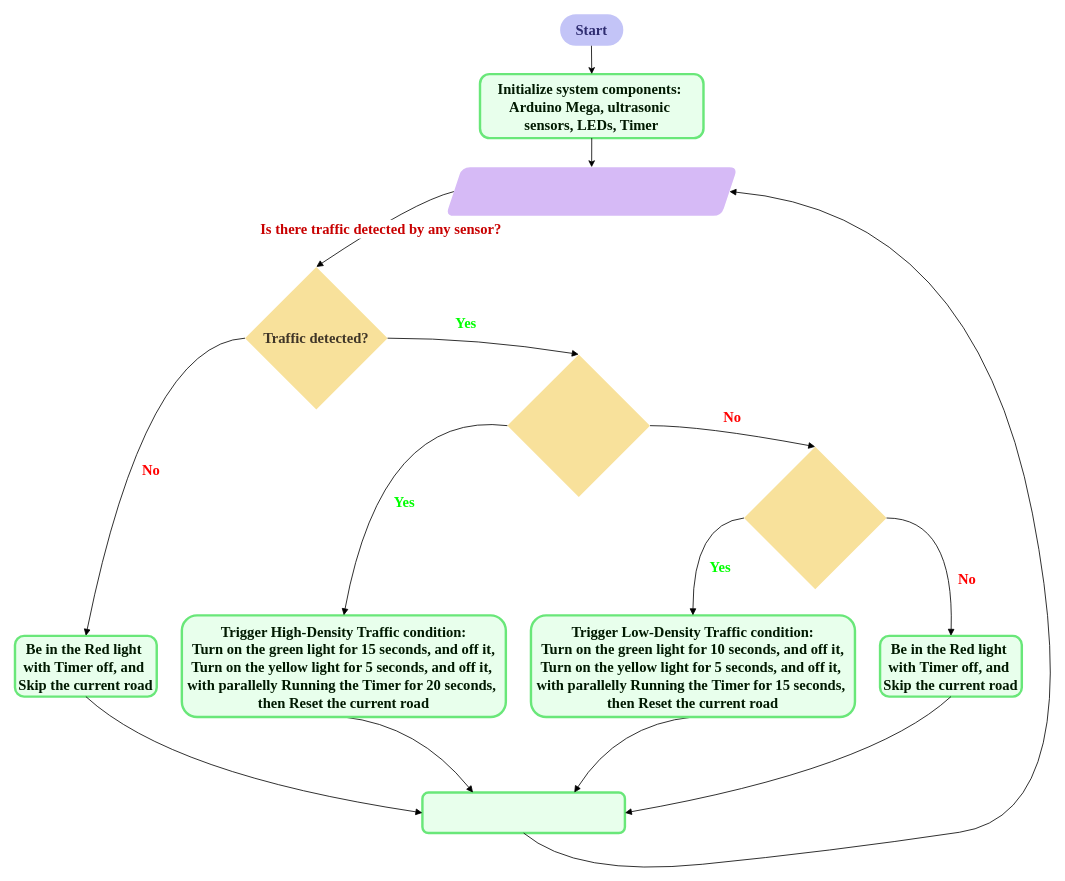
The diagram is 1065 pixels wide and 881 high, and some of its shapes have lost their labels. The box of each missing label's shape, as (x1, y1, x2, y2) in pixels:
Do both sensors detect traffic?: (507, 354, 650, 497)
Does only first sensor detect traffic?: (744, 446, 886, 589)
Gather traffic density data using ultrasonic sensors of the current road: (445, 167, 737, 215)
Move to the next road: (421, 791, 626, 834)
